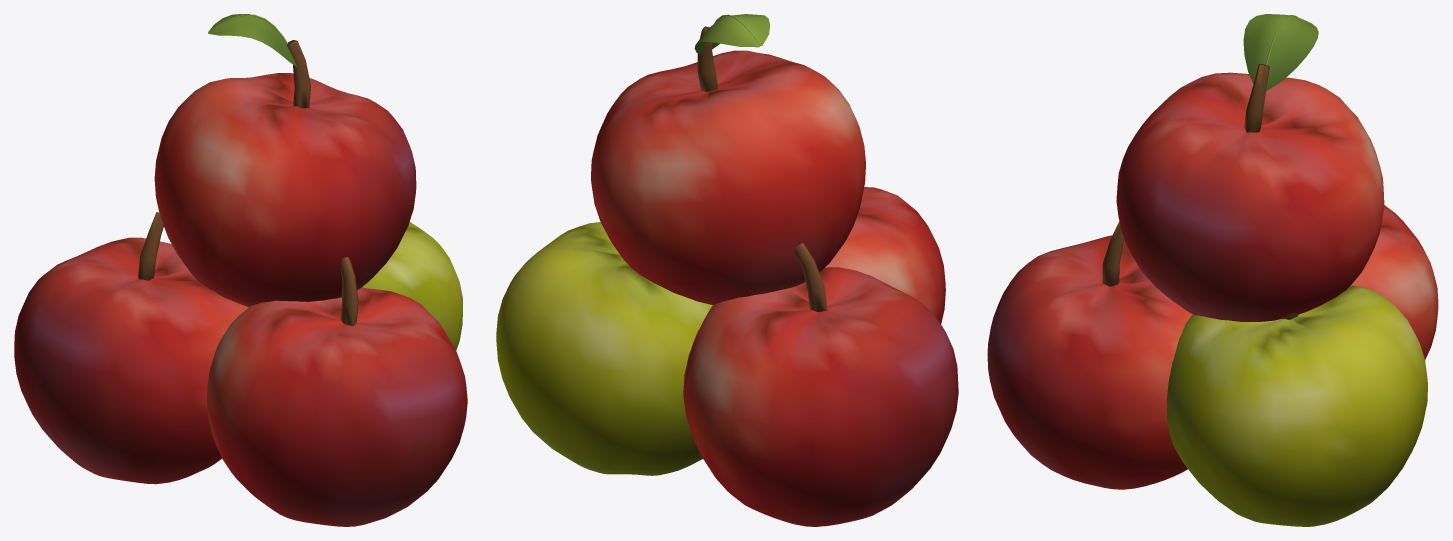
File: apple_pile.glb
3 views of the same model, side by side, from view 1: azimuth 30°, elevation 25°; view 2: azimuth 150°, elevation 25°; view 3: azimuth 270°, elevation 25° (orthographic). The views are drawn at different scales.
Parts seen in each view (by area): view 1: Plant; view 2: Plant; view 3: Plant.
Part boxes in pixels (x1=…): Plant: x1=14, y1=14, x2=467, y2=526; Plant: x1=496, y1=14, x2=958, y2=526; Plant: x1=987, y1=14, x2=1438, y2=526.
Size of the model in its own units: 0.5626 by 0.5862 by 0.531.
